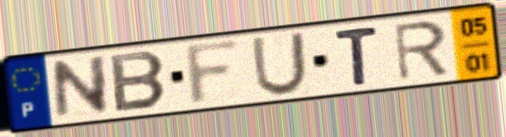B: (107, 49, 170, 114)
F: (182, 36, 245, 109)
N: (49, 53, 112, 123)
R: (390, 18, 452, 84)
T: (331, 23, 382, 88)
U: (249, 30, 310, 98)
